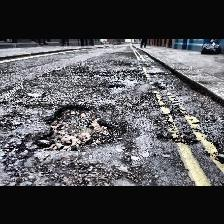pothole: (32, 102, 124, 150), (109, 84, 124, 88)
